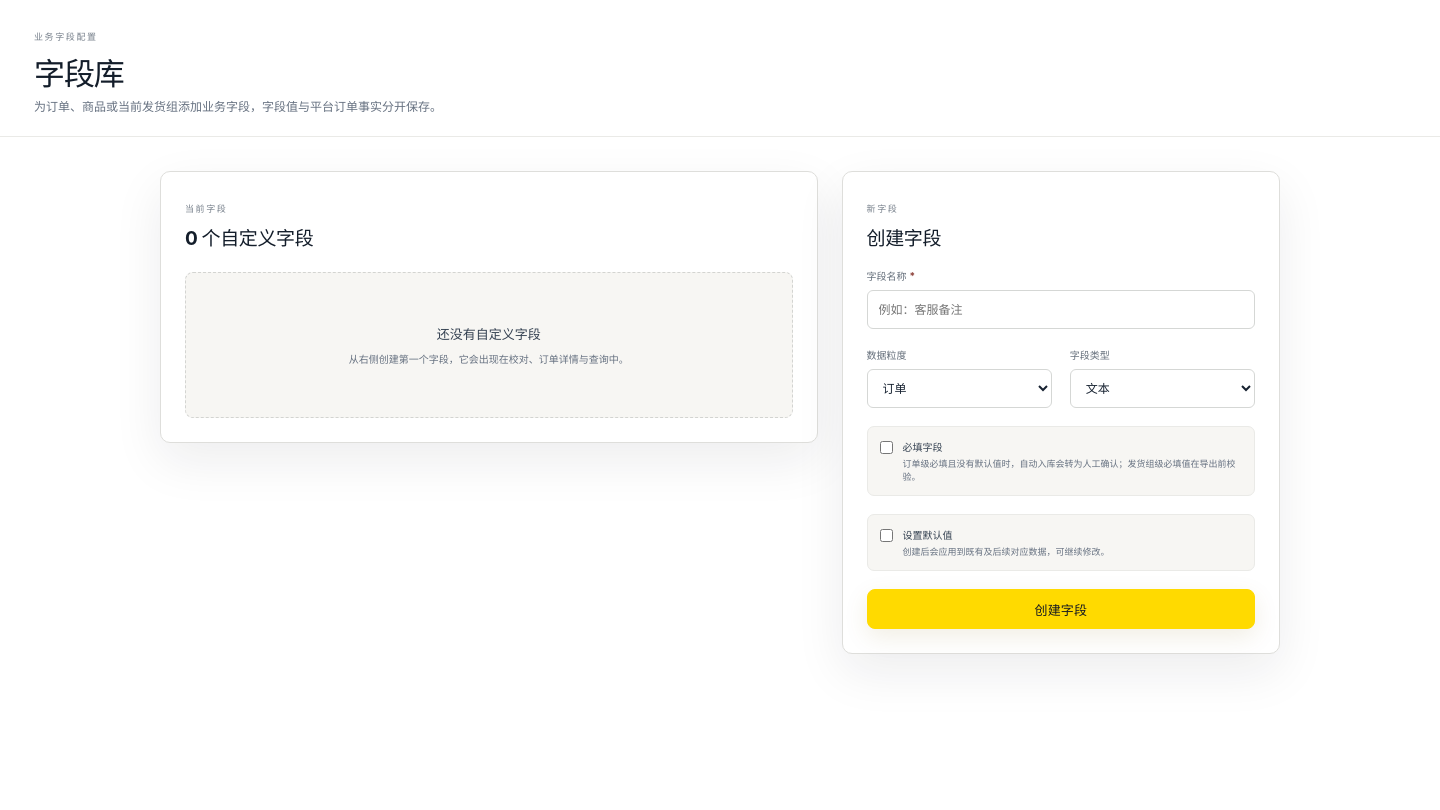
Test case: 自定义字段创建器 › 选择设置默认值后必须填写值才能创建字段
Step 1. Type "客服备注" into the field labelled "字段名称" → (1061, 310), box [867,290,1255,329]
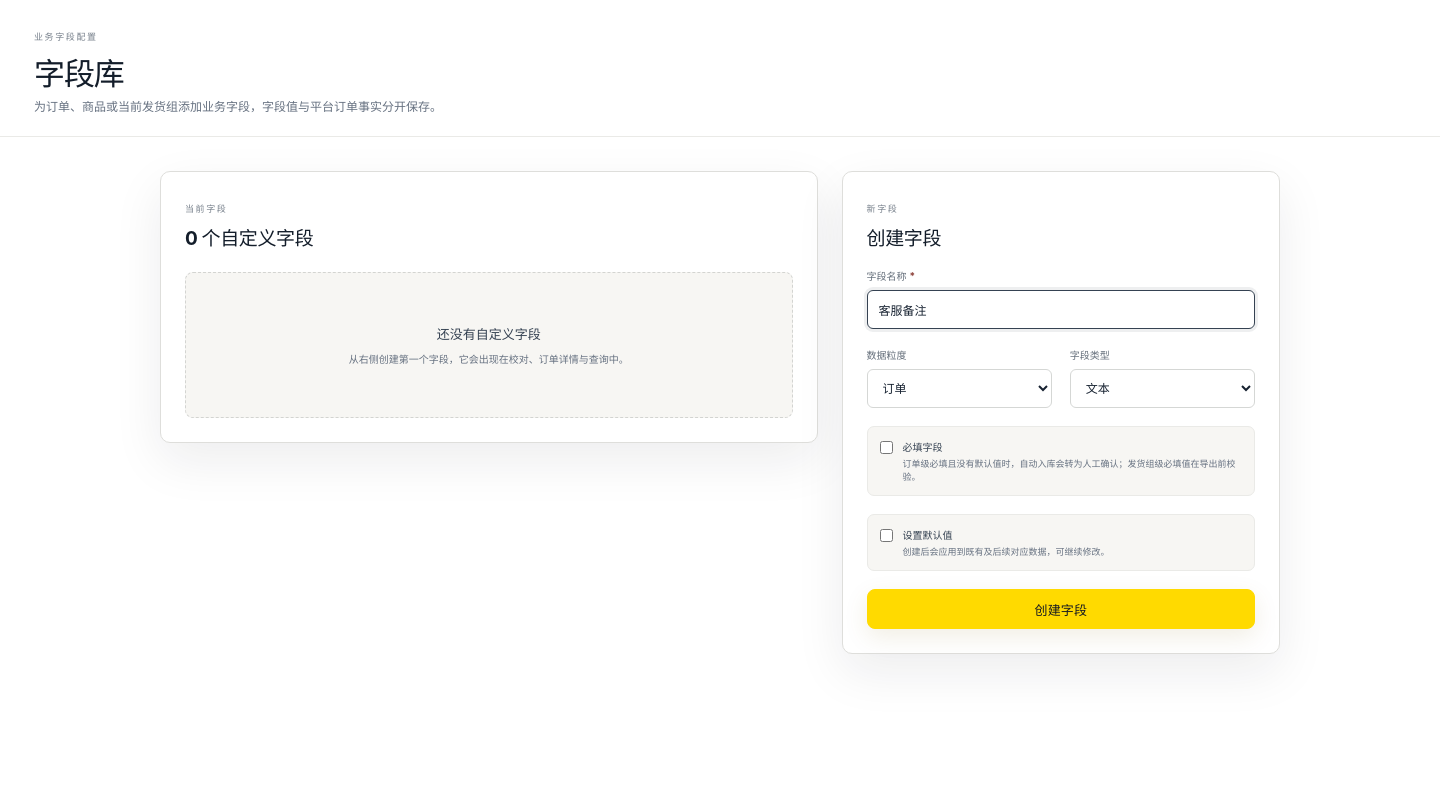
Step 2. Click the checkbox labelled "设置默认值 创建后会应用到既有及后续对应数据，可继续修改。" → (886, 536), box [880,529,893,542]
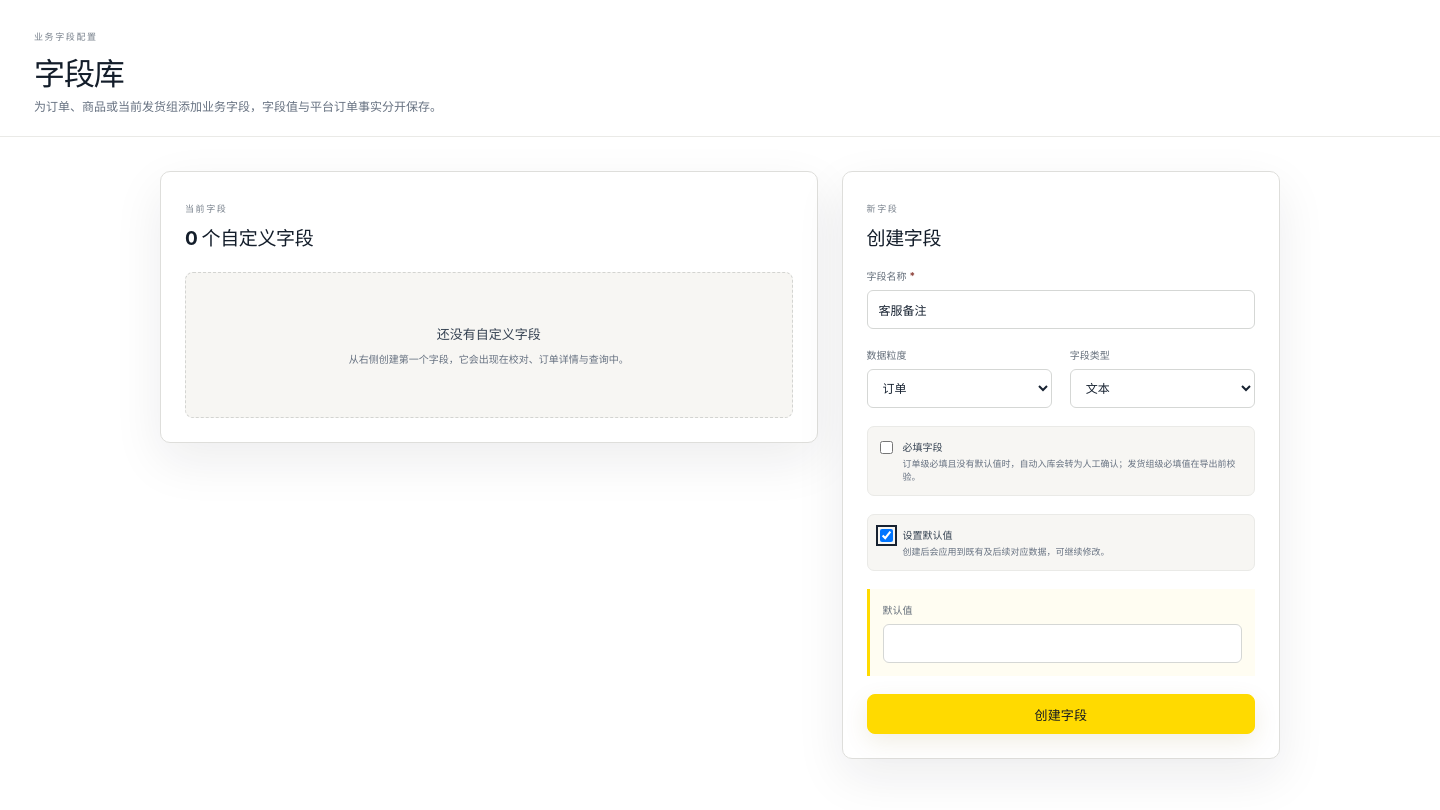
Step 3. Click the button "创建字段" → (1061, 714), box [867,694,1255,734]
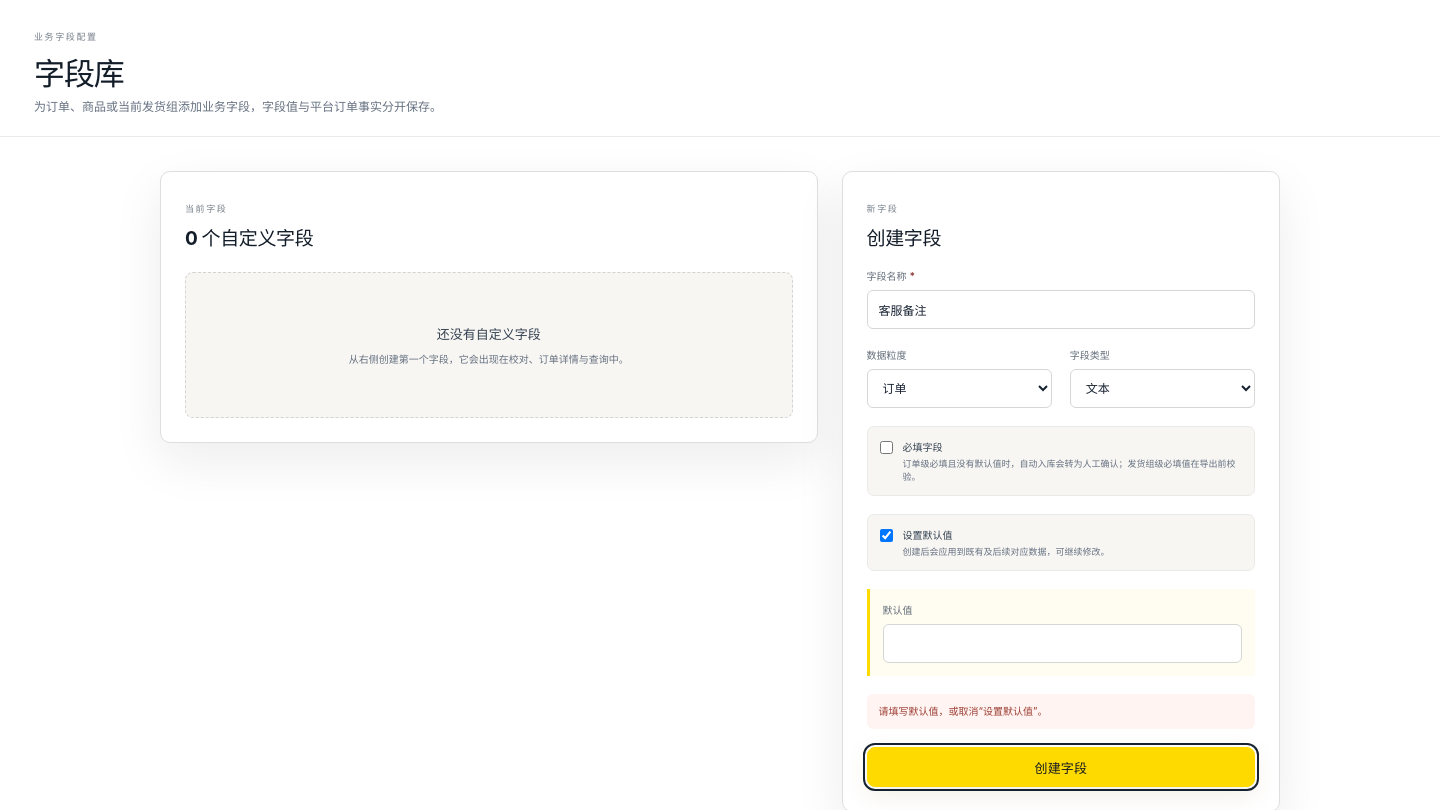
Expected: the button "创建字段" is enabled, [867,747,1255,787]
Now the message shows "请填写默认值", box [879,705,1047,717]
